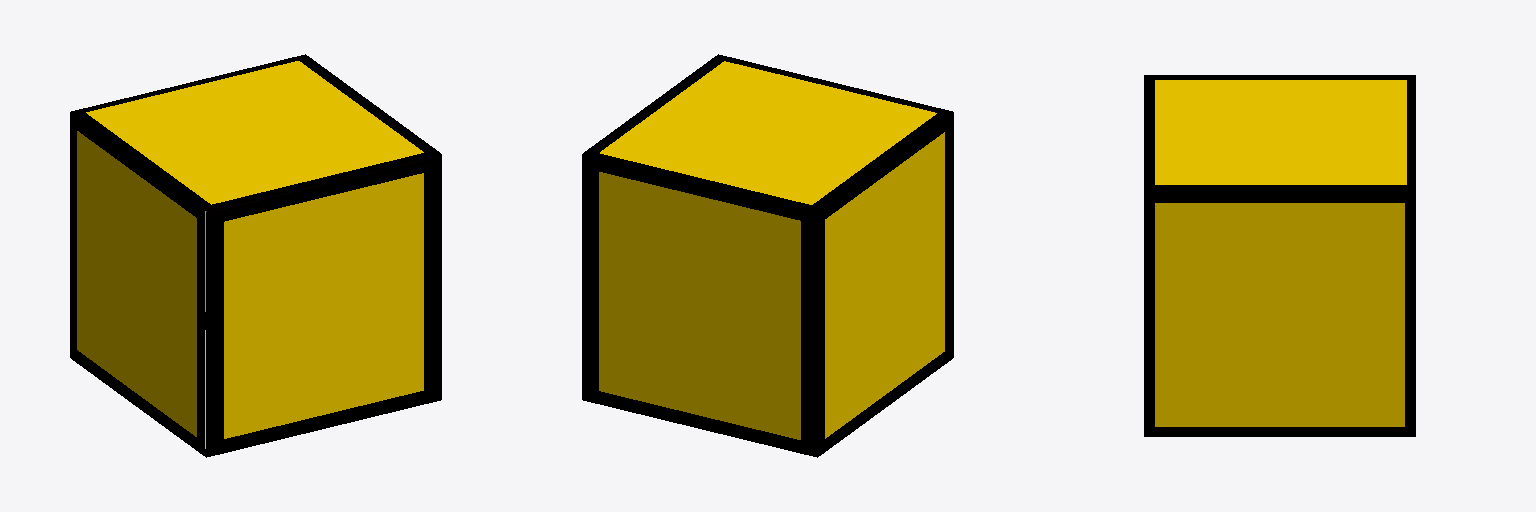
3 renders of one model, left to right at view 1: azimuth 30°, elevation 25°; view 2: azimuth 150°, elevation 25°; view 3: azimuth 270°, elevation 25°, orthographic.
Parts seen in each view (by area): view 1: Cube; view 2: Cube; view 3: Cube.
Boxes of the visible parts, x1=… form: Cube: x1=70, y1=54, x2=441, y2=457; Cube: x1=582, y1=54, x2=953, y2=457; Cube: x1=1144, y1=75, x2=1415, y2=436.
Bounding box in the file's own units: 0.8889 × 0.8889 × 0.8889.
Materials: 1 (1 with a texture image).